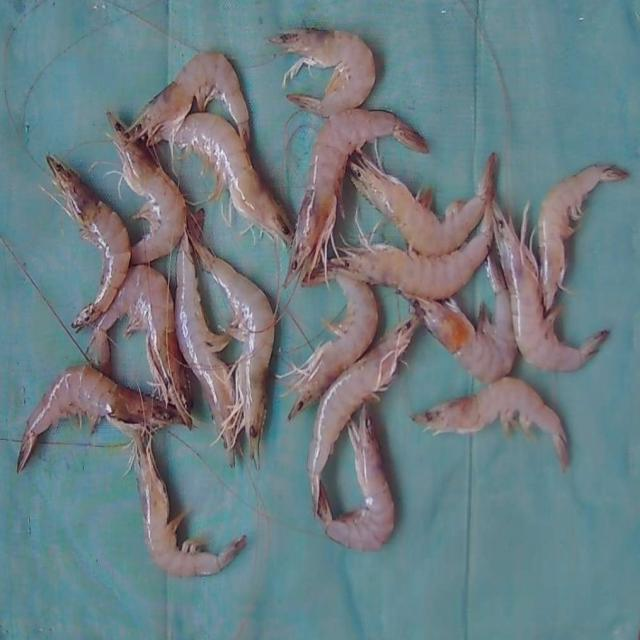shrimp: (285, 108, 428, 284), (308, 318, 418, 517), (494, 204, 609, 372), (192, 239, 275, 465), (148, 112, 292, 241), (132, 425, 246, 578), (17, 366, 179, 472), (89, 264, 191, 427), (175, 233, 239, 476), (348, 151, 496, 256), (278, 267, 378, 419), (333, 207, 493, 300), (45, 155, 130, 330), (412, 377, 569, 471), (413, 254, 517, 383), (539, 165, 630, 309), (107, 112, 185, 264), (127, 52, 249, 145), (320, 405, 394, 551), (270, 27, 375, 116)
